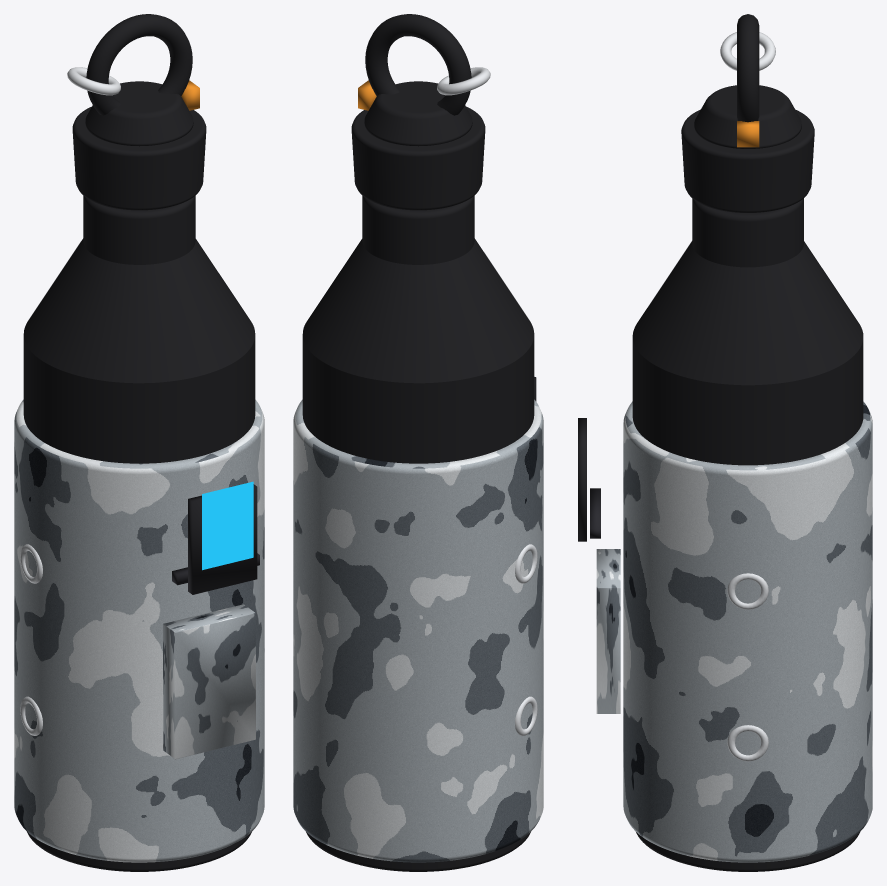
Rendered from jimkeg_interactive.glb.
3 views of the same model, side by side, from view 1: azimuth 30°, elevation 25°; view 2: azimuth 150°, elevation 25°; view 3: azimuth 270°, elevation 25° (orthographic).
Visible parts, largest first — view 1: Part_Sleeve, Part_Body, Part_Cap, Part_Phone; view 2: Part_Sleeve, Part_Body, Part_Cap; view 3: Part_Sleeve, Part_Body, Part_Cap, Part_Phone.
Boxes of the visible parts, left/top/right/bottom form: Part_Sleeve: left=14, top=399, right=264, bottom=862; Part_Body: left=23, top=196, right=255, bottom=871; Part_Cap: left=67, top=14, right=206, bottom=210; Part_Phone: left=188, top=481, right=257, bottom=594; Part_Sleeve: left=293, top=399, right=543, bottom=862; Part_Body: left=302, top=196, right=534, bottom=871; Part_Cap: left=351, top=14, right=490, bottom=210; Part_Sleeve: left=590, top=401, right=872, bottom=862; Part_Body: left=632, top=198, right=863, bottom=871; Part_Cap: left=681, top=14, right=814, bottom=212; Part_Phone: left=578, top=418, right=586, bottom=541.
Size of the model in its own units: 0.1364 by 0.478 by 0.1615.
7 materials, 1 textured.
